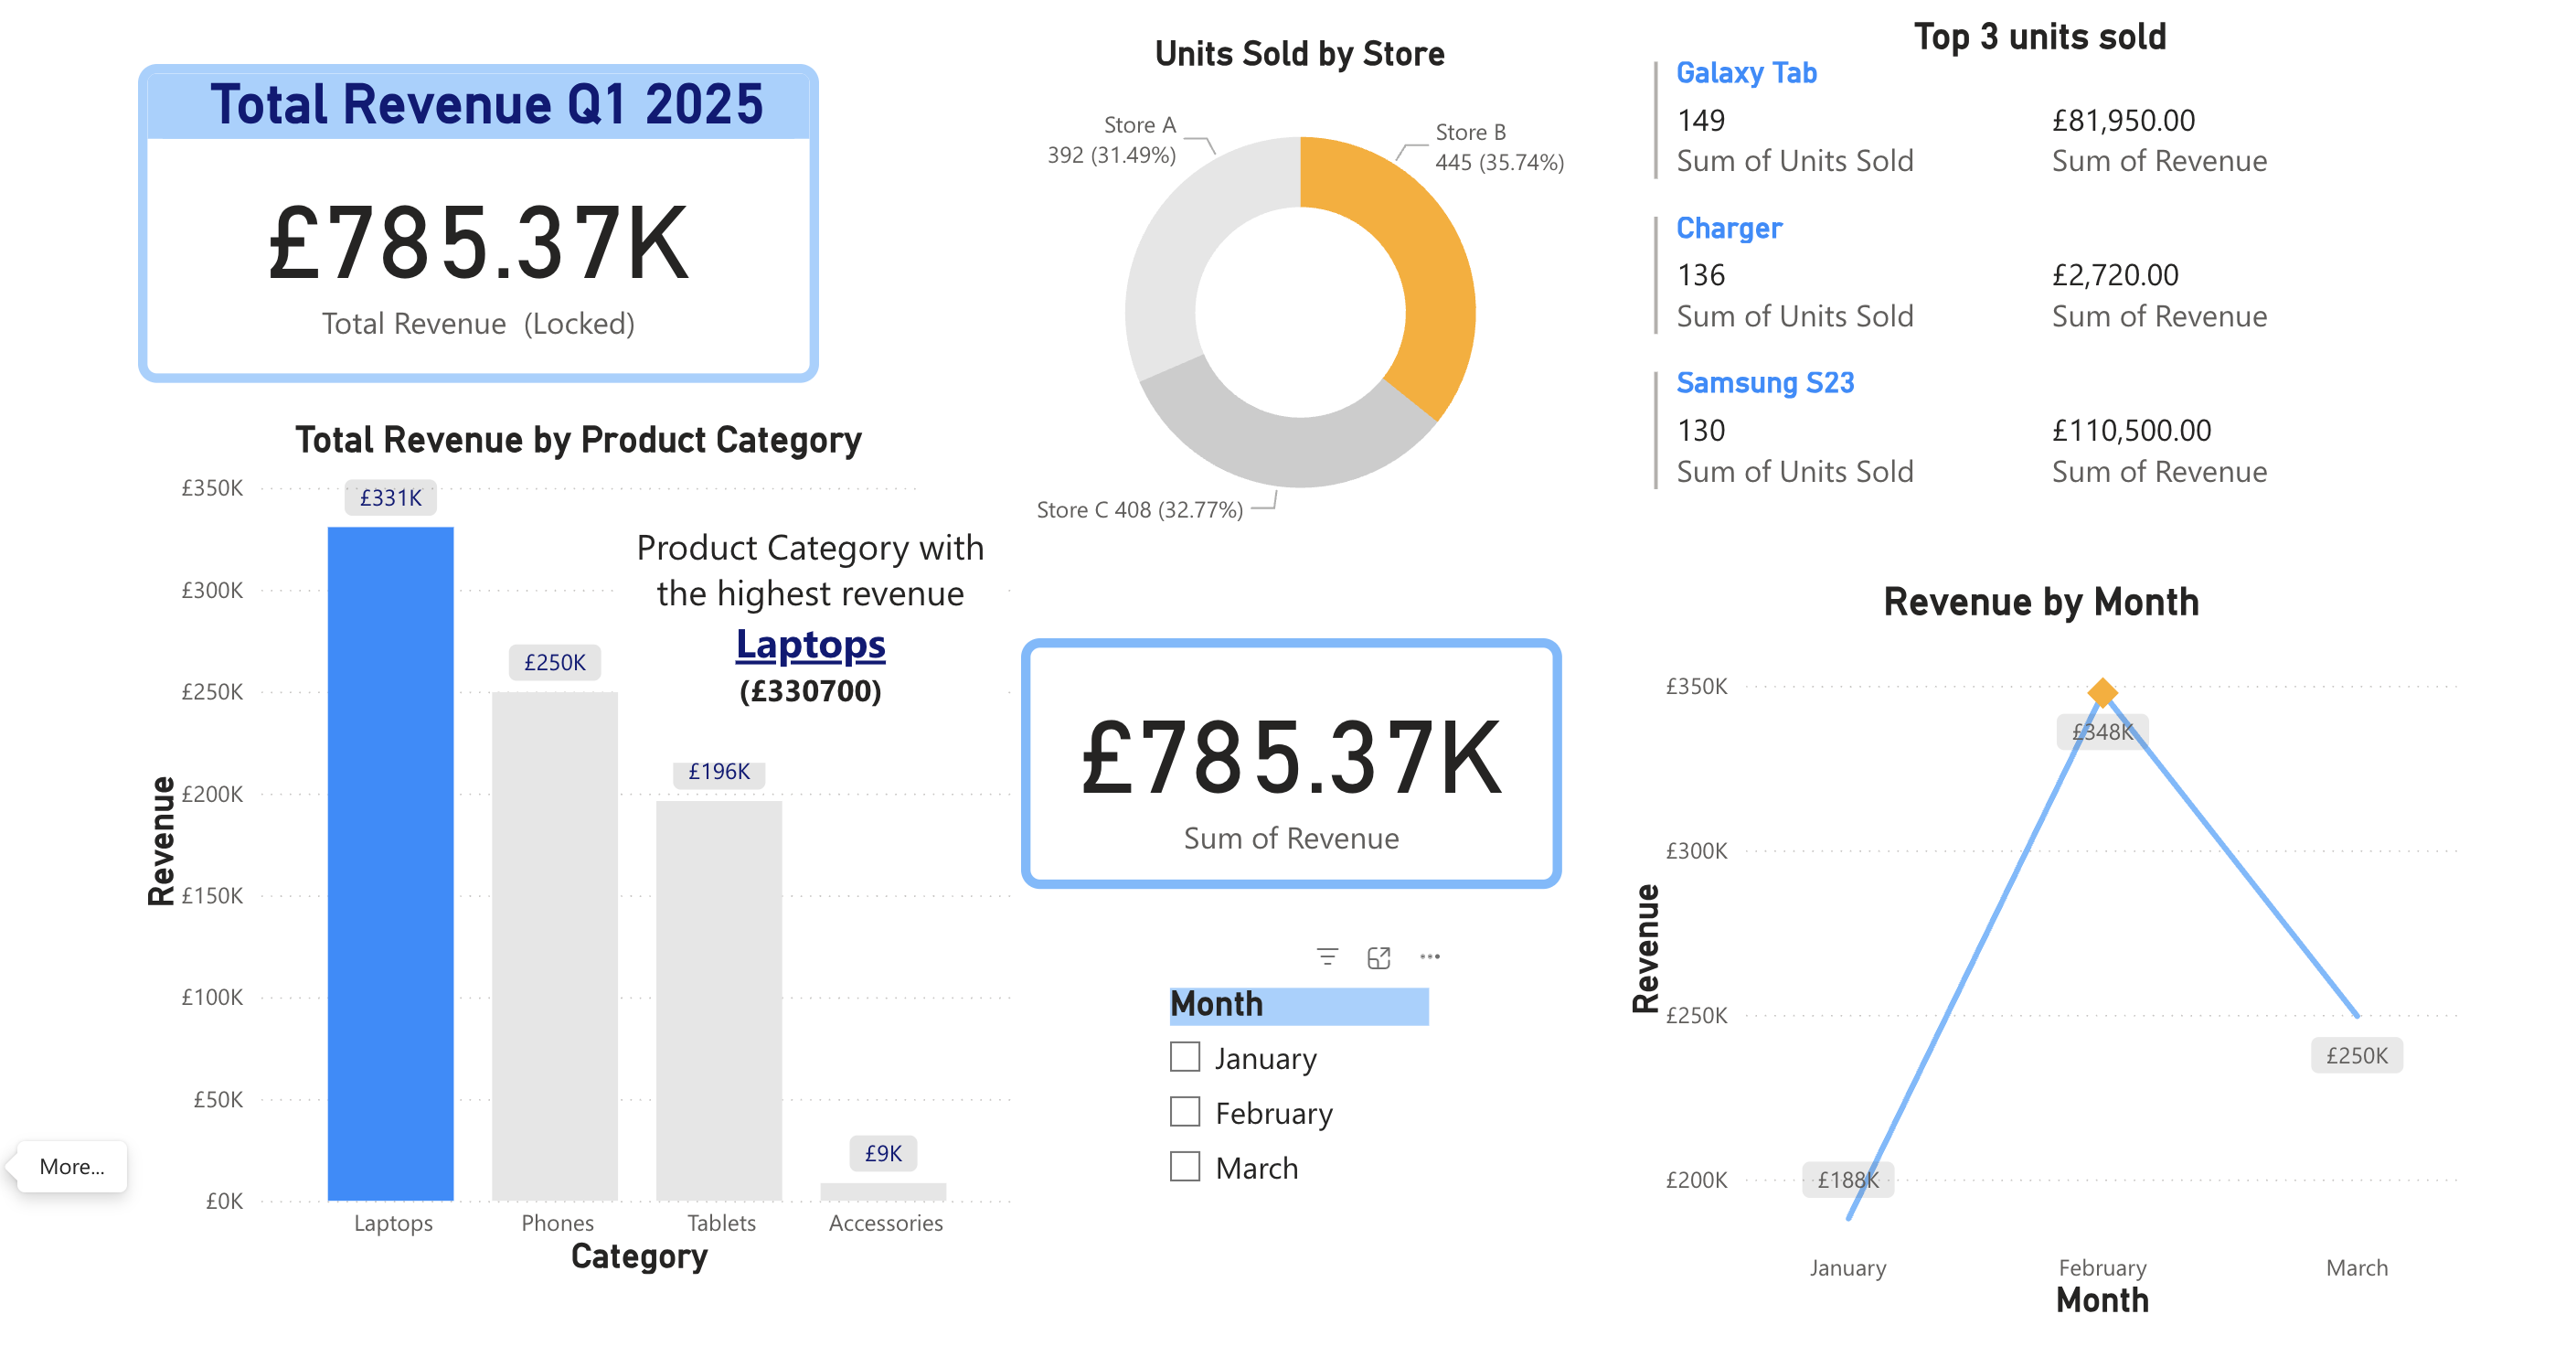

The page's visual inventory and layout, read from the dashboard file:
{"tool":"powerbi","page":{"name":"Retail Stores Sales","canvas":[1280,720],"ordinal":0},"visuals":[{"type":"card","title":"Total Revenue Q1 2025","fields":{"Values":["retail_sales_q1_2025_large.Total Revenue  (Locked)"]},"box":[32.2,34.1,360.1,168.7],"z":0},{"type":"clusteredColumnChart","title":"Total Revenue by Product Category","fields":{"Category":["retail_sales_q1_2025_large.Product Category"],"Y":["Sum(retail_sales_q1_2025_large.Revenue)"]},"box":[28.4,223.7,473.8,454.9],"z":1000},{"type":"donutChart","title":"Units Sold by Store","fields":{"Category":["retail_sales_q1_2025_large.Store"],"Y":["Sum(retail_sales_q1_2025_large.Units Sold)"]},"box":[445.4,9.5,401.8,284.3],"z":2000},{"type":"multiRowCard","title":"Top 3 units sold","fields":{"Values":["Sum(retail_sales_q1_2025_large.Units Sold)","retail_sales_q1_2025_large.Product","Sum(retail_sales_q1_2025_large.Revenue)"]},"box":[828.3,0,418.9,303.3],"z":3000},{"type":"lineChart","title":"Revenue by Month","fields":{"Category":["retail_sales_q1_2025_large.Date.Variation.Date Hierarchy.Month"],"Y":["Sum(retail_sales_q1_2025_large.Revenue)"]},"box":[813.1,303.3,451.1,398],"z":4000},{"type":"slicer","fields":{"Values":["retail_sales_q1_2025_large.Date.Variation.Date Hierarchy.Month"]},"box":[564.8,517.4,163,138.4],"z":5000},{"type":"card","fields":{"Values":["Sum(retail_sales_q1_2025_large.Revenue)"]},"box":[498.5,337.4,286.2,132.7],"z":6000},{"type":"textbox","box":[286.2,271,202.8,132.7],"z":7000}]}

Visuals, with their boxes on the page's 1280x720 design canvas (x1, y1, x2, y2). These are canvas units, not pixel positions in the 2576x1346 screenshot, which may show the page scaled, cropped or inside an application window:
"Total Revenue Q1 2025" card: 32,34,392,203
"Total Revenue by Product Category" clusteredColumnChart: 28,224,502,679
"Units Sold by Store" donutChart: 445,10,847,294
"Top 3 units sold" multiRowCard: 828,0,1247,303
"Revenue by Month" lineChart: 813,303,1264,701
slicer - retail_sales_q1_2025_large.Date.Variation.Date Hierarchy.Month: 565,517,728,656
card - Sum(retail_sales_q1_2025_large.Revenue): 498,337,785,470
textbox: 286,271,489,404
